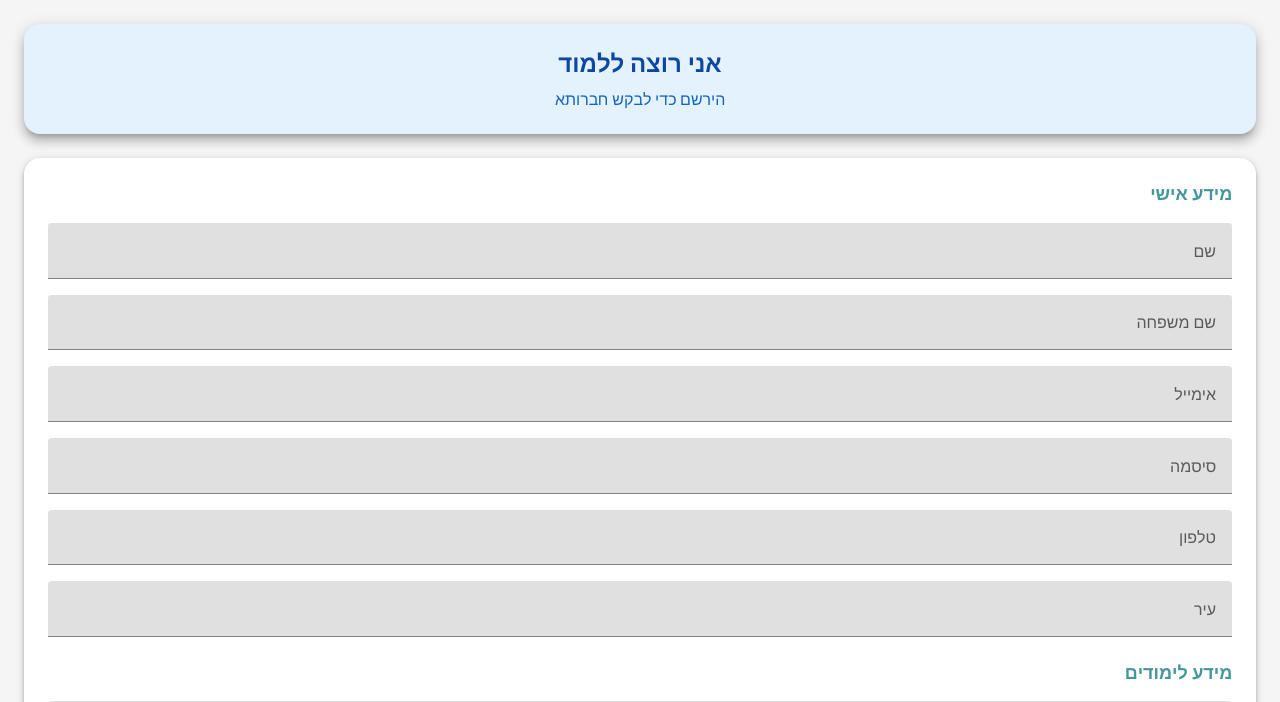
it: RegistrationScreen › registers, shows the toast and opens the personal area
The width and height of the screenshot is (1280, 702).
Type "דוד" into the field labelled "שם". click: (640, 251)
box: [48,223,1232,279]
Type "כהן" into the field labelled "שם משפחה". click: (640, 322)
box: [48,295,1232,350]
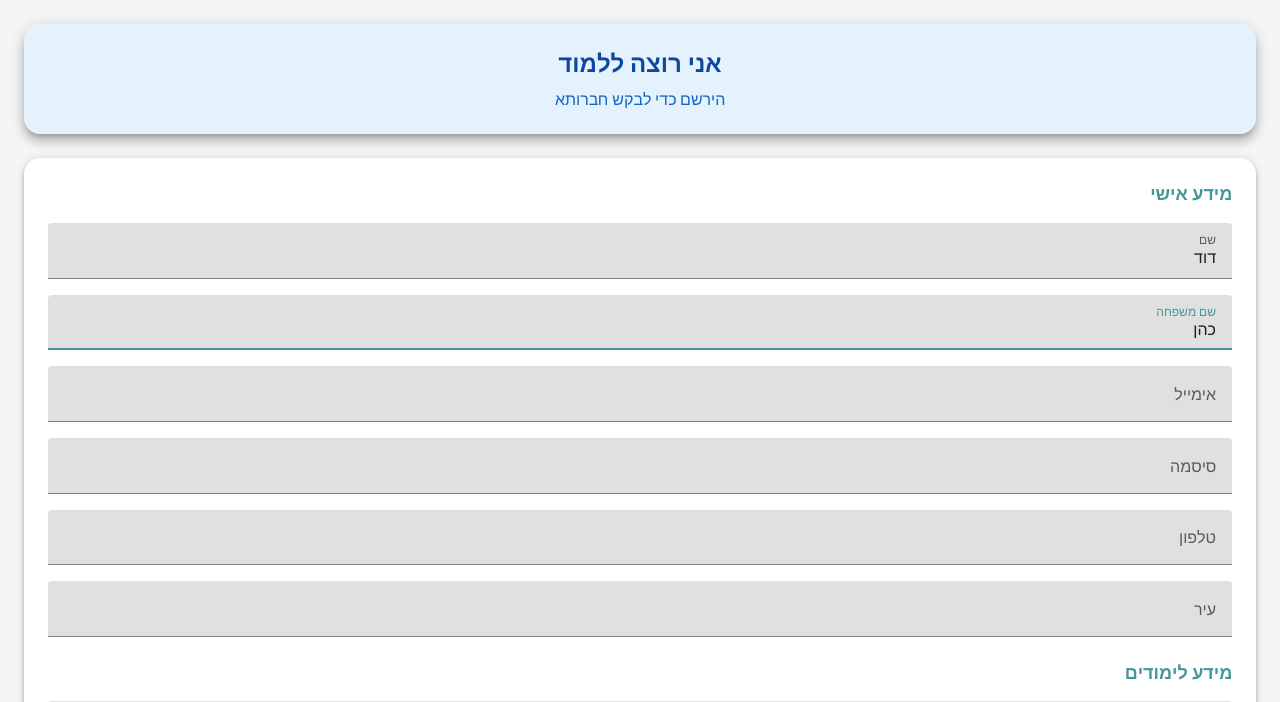
Type "d@e.co" into the field labelled "אימייל". click: (640, 394)
box: [48,366,1232,422]
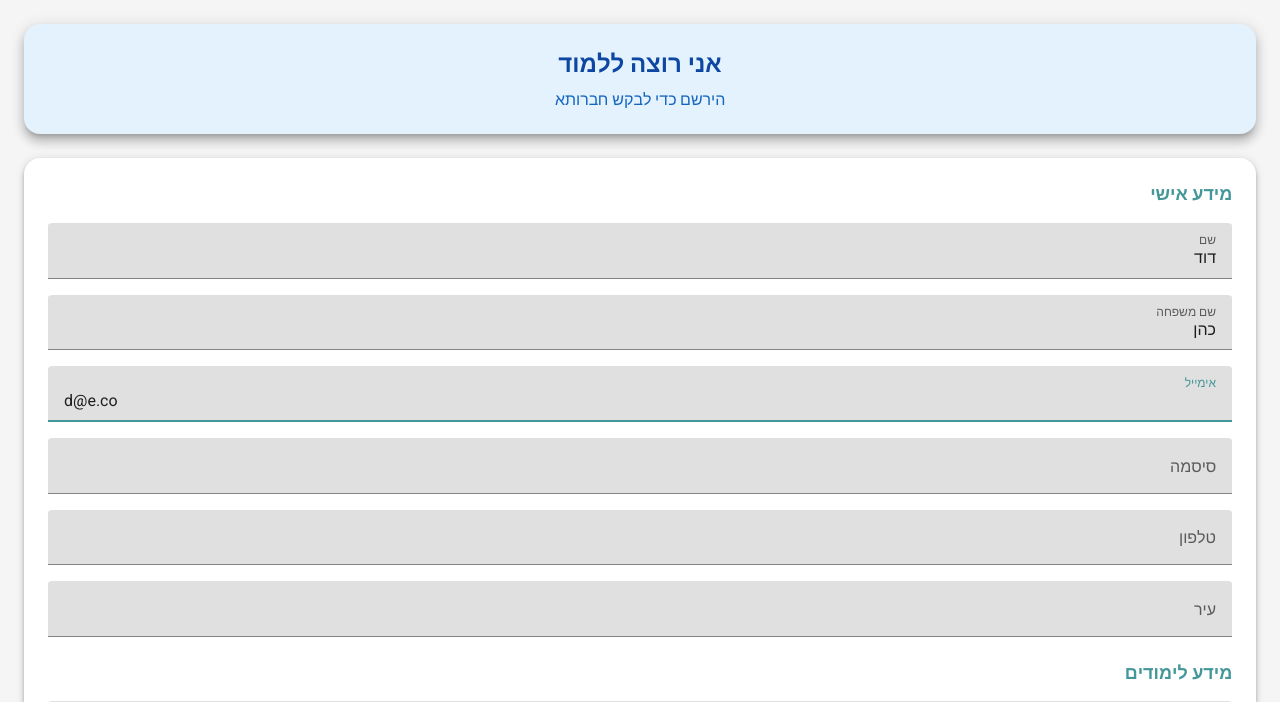
Type "Test1234" into the password field labelled "סיסמה". click: (640, 466)
box: [48,438,1232,494]
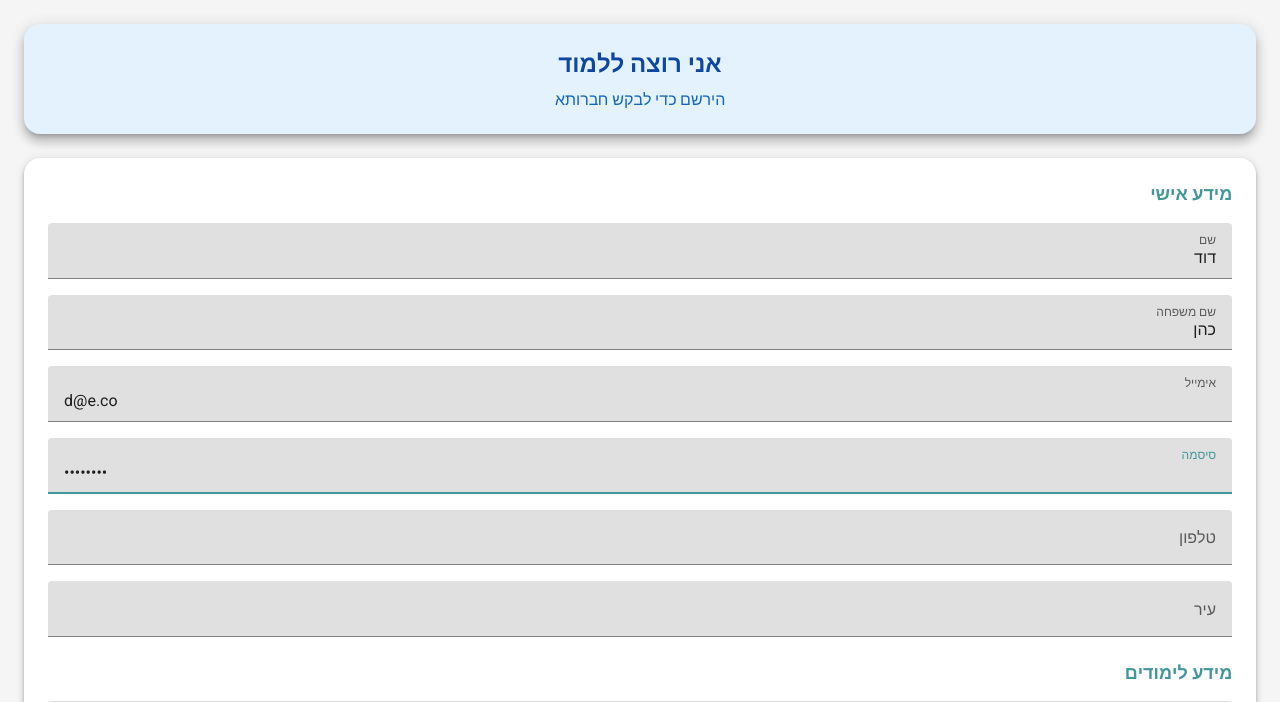
Type "0501234567" into the field labelled "טלפון". click: (640, 537)
box: [48,510,1232,565]
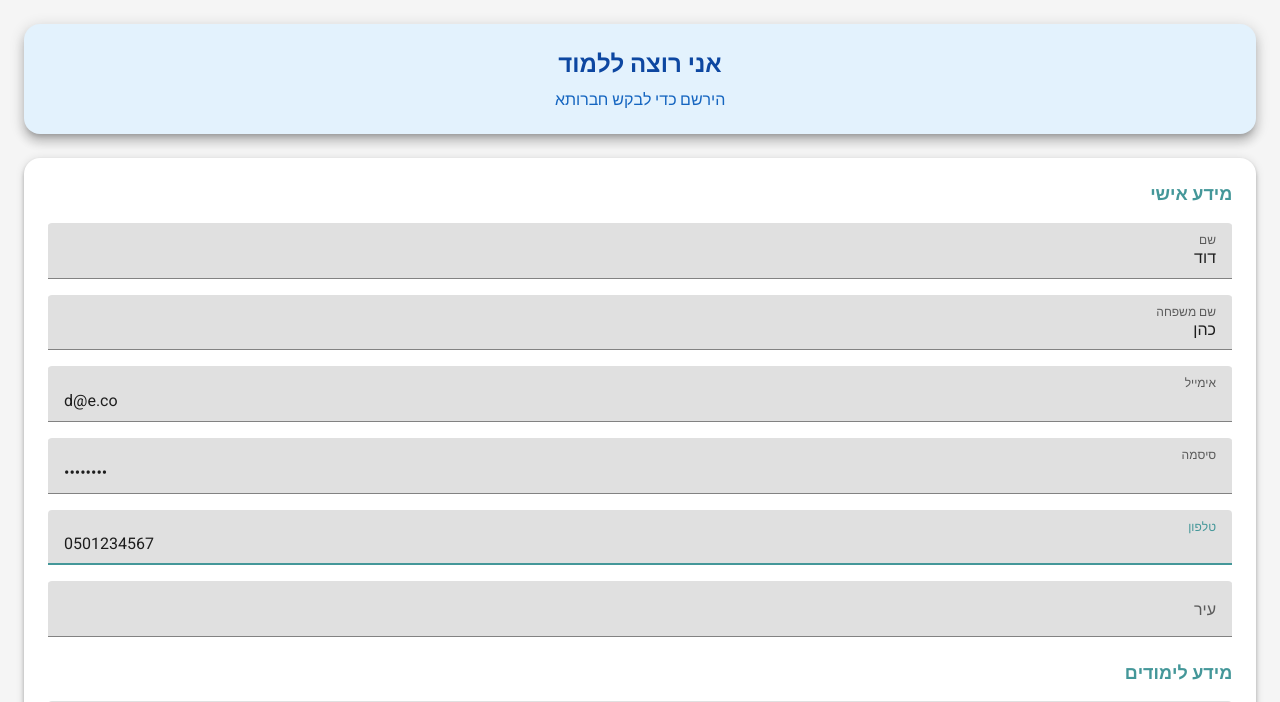
Type "ירושלים" into the field labelled "עיר". click: (640, 609)
box: [48,581,1232,637]
(page scrolled)
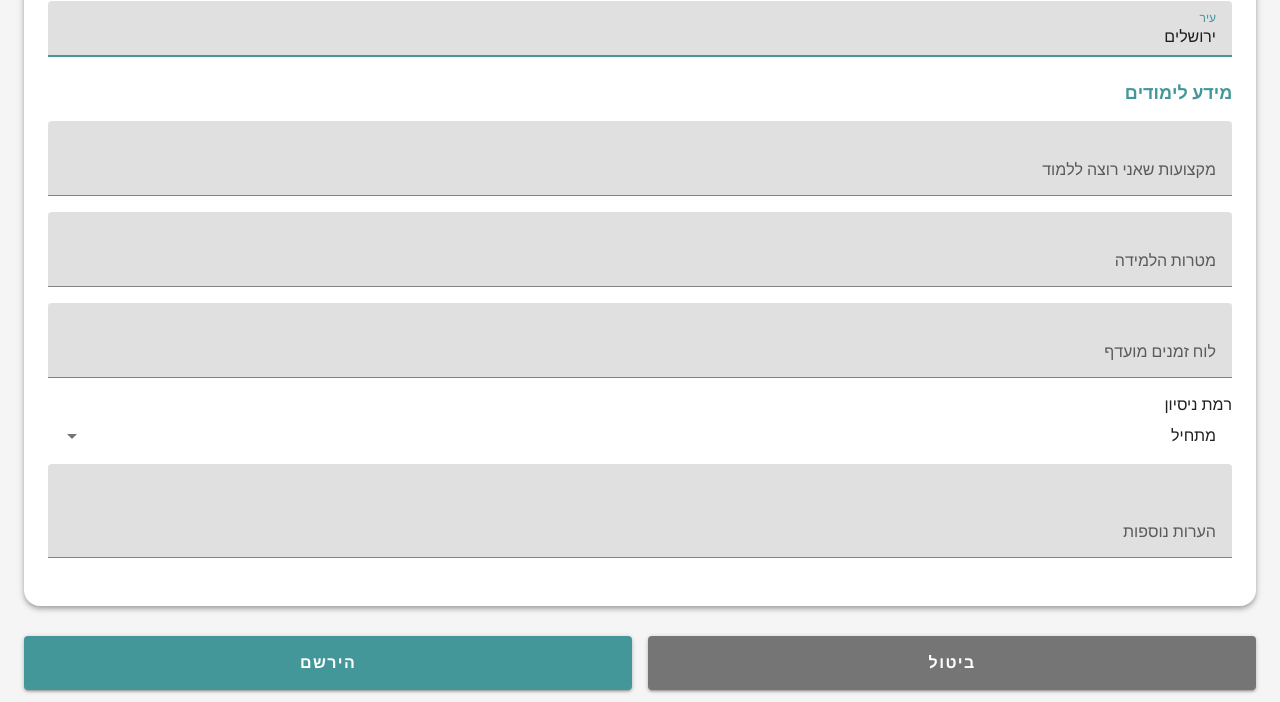
Click the button "הירשם". click: (328, 663)
box: [24,636,632,690]
(page scrolled)
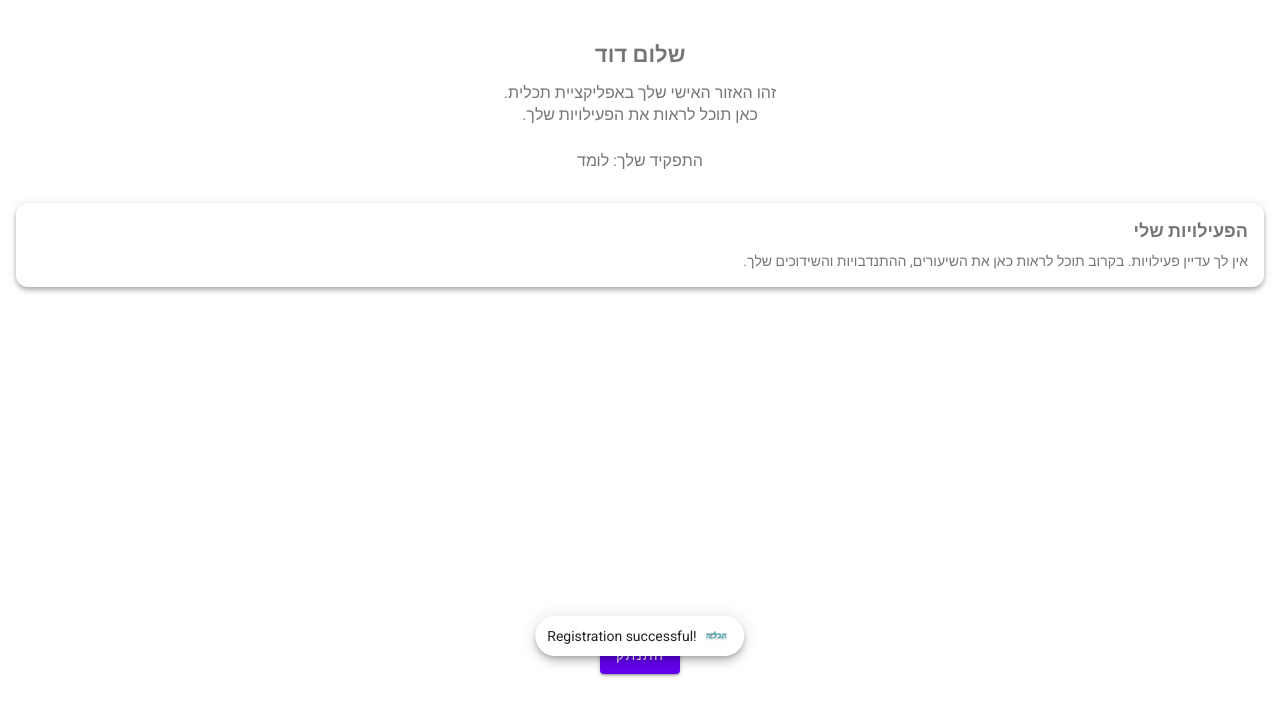
Expected: the message reads "Registration successful!", [547,628,697,644]
Expected: the text "שלום דוד" is shown, [595,42,685,67]
